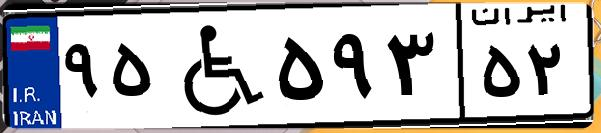2: (525, 38, 570, 115)
3: (385, 28, 445, 110)
5: (270, 28, 330, 110), (475, 38, 525, 113), (110, 28, 158, 98)
9: (330, 28, 385, 110), (57, 26, 110, 100)
ژ (معلولین و جانبازان): (158, 12, 270, 120)
